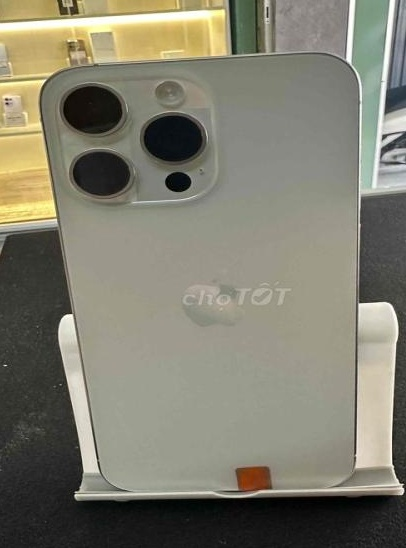scratch: (116, 102, 219, 202)
